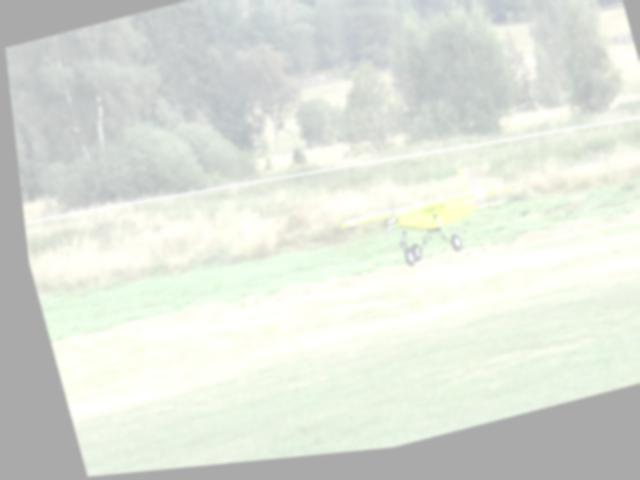plane: (326, 165, 526, 286)
